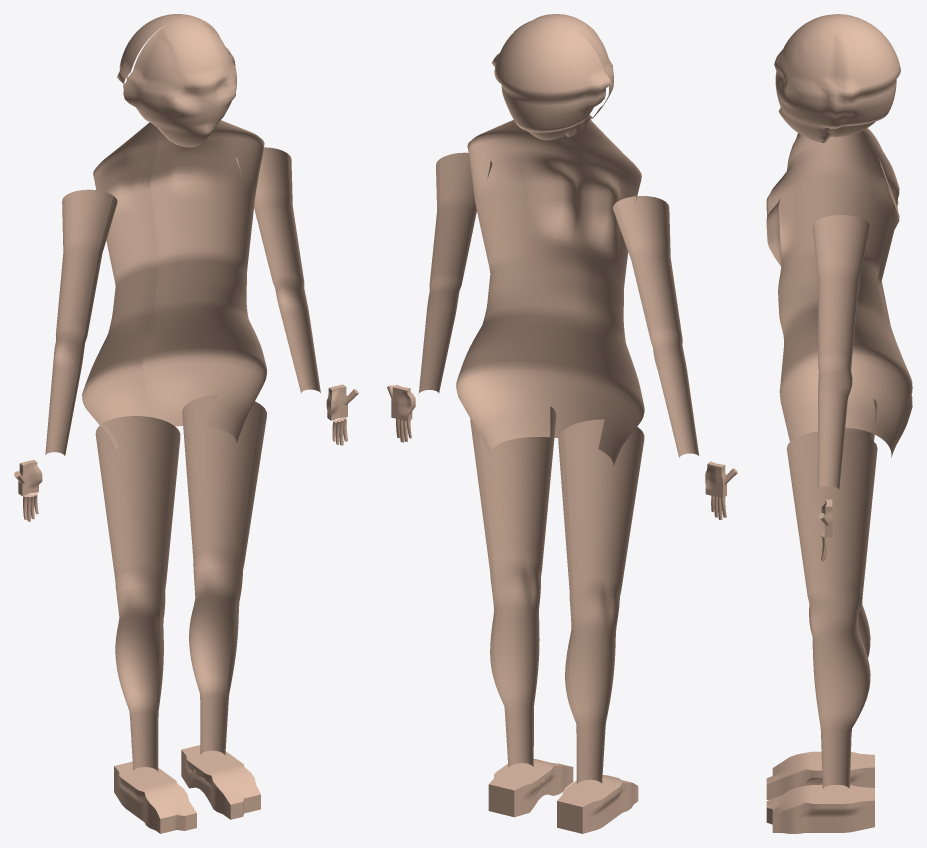
Rendered from solenne.glb.
The picture shows the model from 3 angles, left to right: view 1: azimuth 30°, elevation 25°; view 2: azimuth 150°, elevation 25°; view 3: azimuth 270°, elevation 25°; orthographic projection.
Parts seen in each view (by area): view 1: Solenne_Unified_Body; view 2: Solenne_Unified_Body; view 3: Solenne_Unified_Body.
Boxes of the visible parts, box(x1,y1,x2,y2) form: Solenne_Unified_Body: box(14, 14, 358, 833); Solenne_Unified_Body: box(387, 14, 737, 833); Solenne_Unified_Body: box(766, 14, 912, 833).
Bounding box in the file's own units: 0.7788 × 1.69 × 0.2829.
